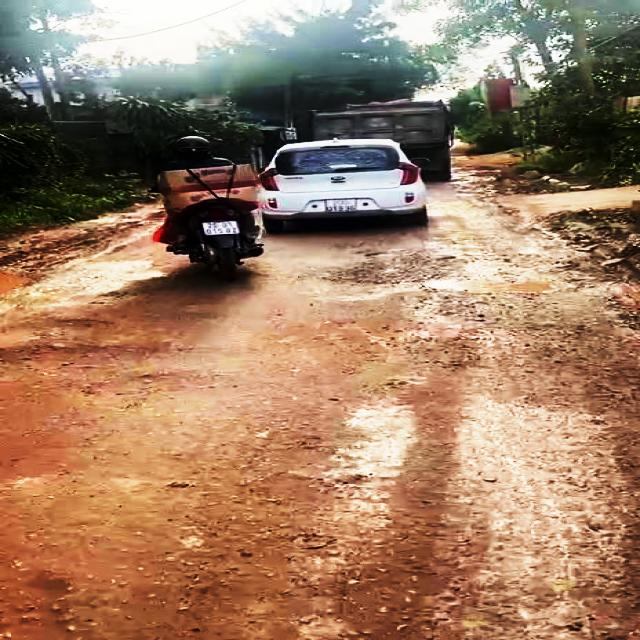pothole: (420, 271, 572, 297)
